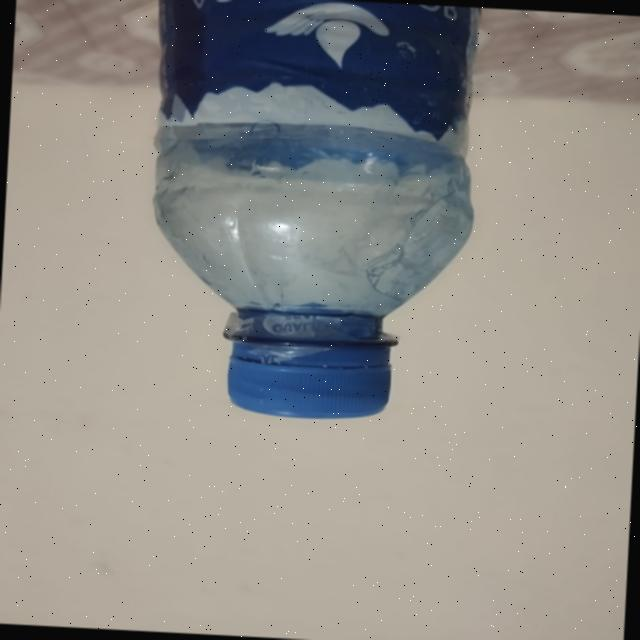cap: (223, 341, 394, 424)
label: (156, 0, 478, 142)
